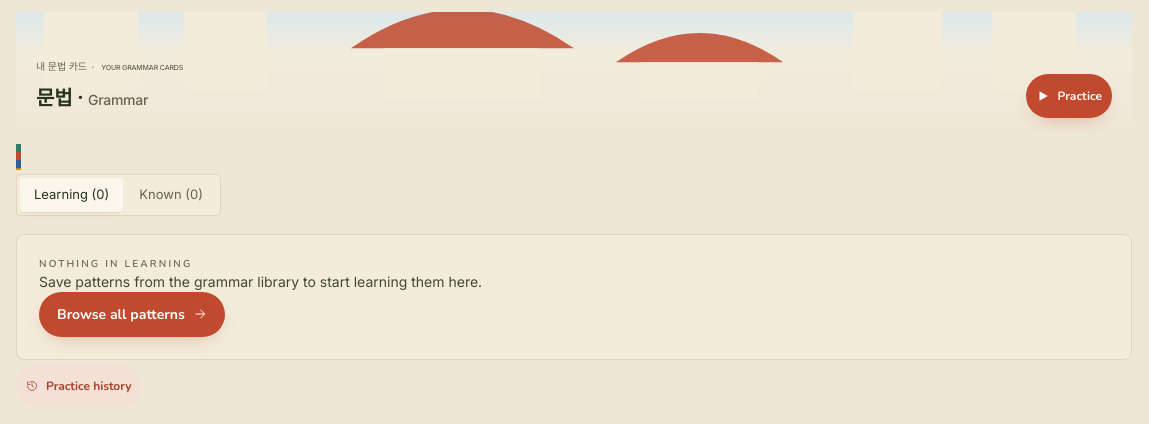
Test: Grammar — F-110 practice history (real GET /grammar-drill/attempts) › shows an honest empty state when there are no scored attempts
Expected: the button "Learning (0)" is shown, left=20, top=178, right=123, bottom=212
Click the button "Practice history" at (79, 386), box left=16, top=364, right=142, bottom=408
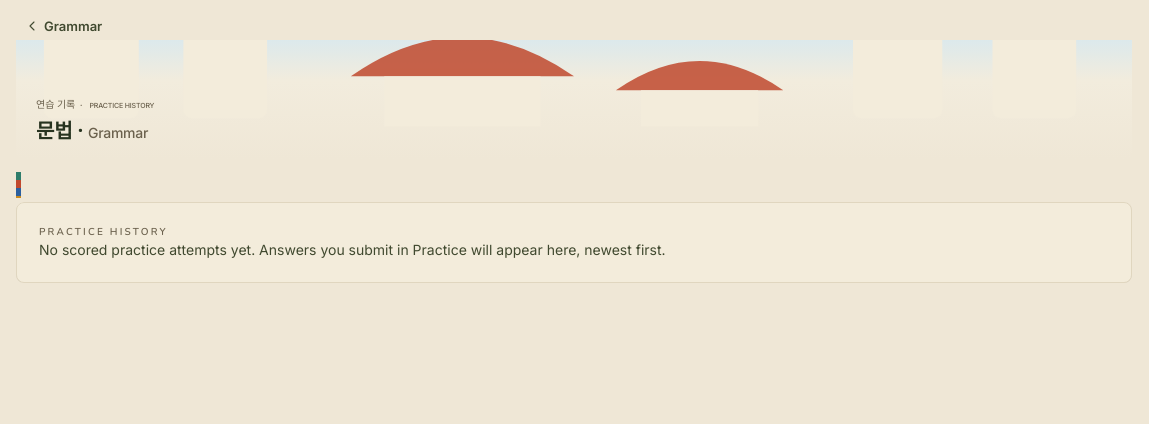
Now the text "No scored practice attempts yet" is shown, box left=39, top=241, right=666, bottom=258
